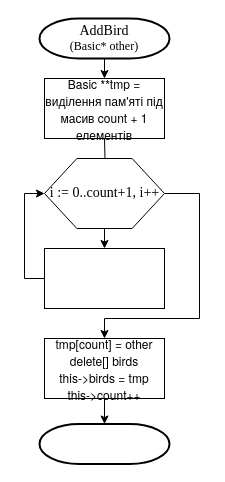
Some shapes in this 225 by 482 pixel diagram are drawn without their labels. Here are the shapes that lost their labels. From the top down, the box of each, then its label:
(44, 248, 164, 308): tmp[i] = birds[i]
(38, 422, 170, 464): Кінець
